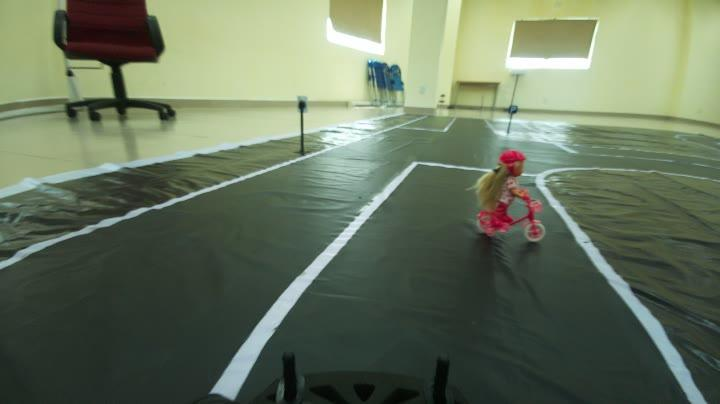pedestrian: (472, 154, 552, 242)
